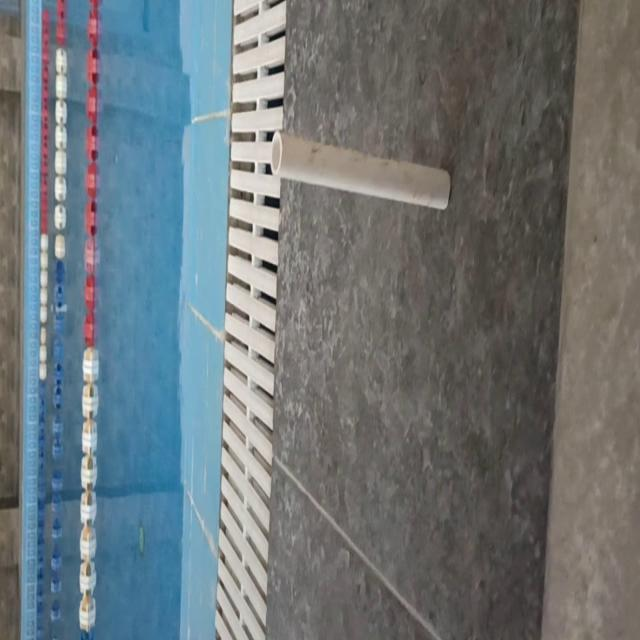Cube: (269, 127, 451, 213)
